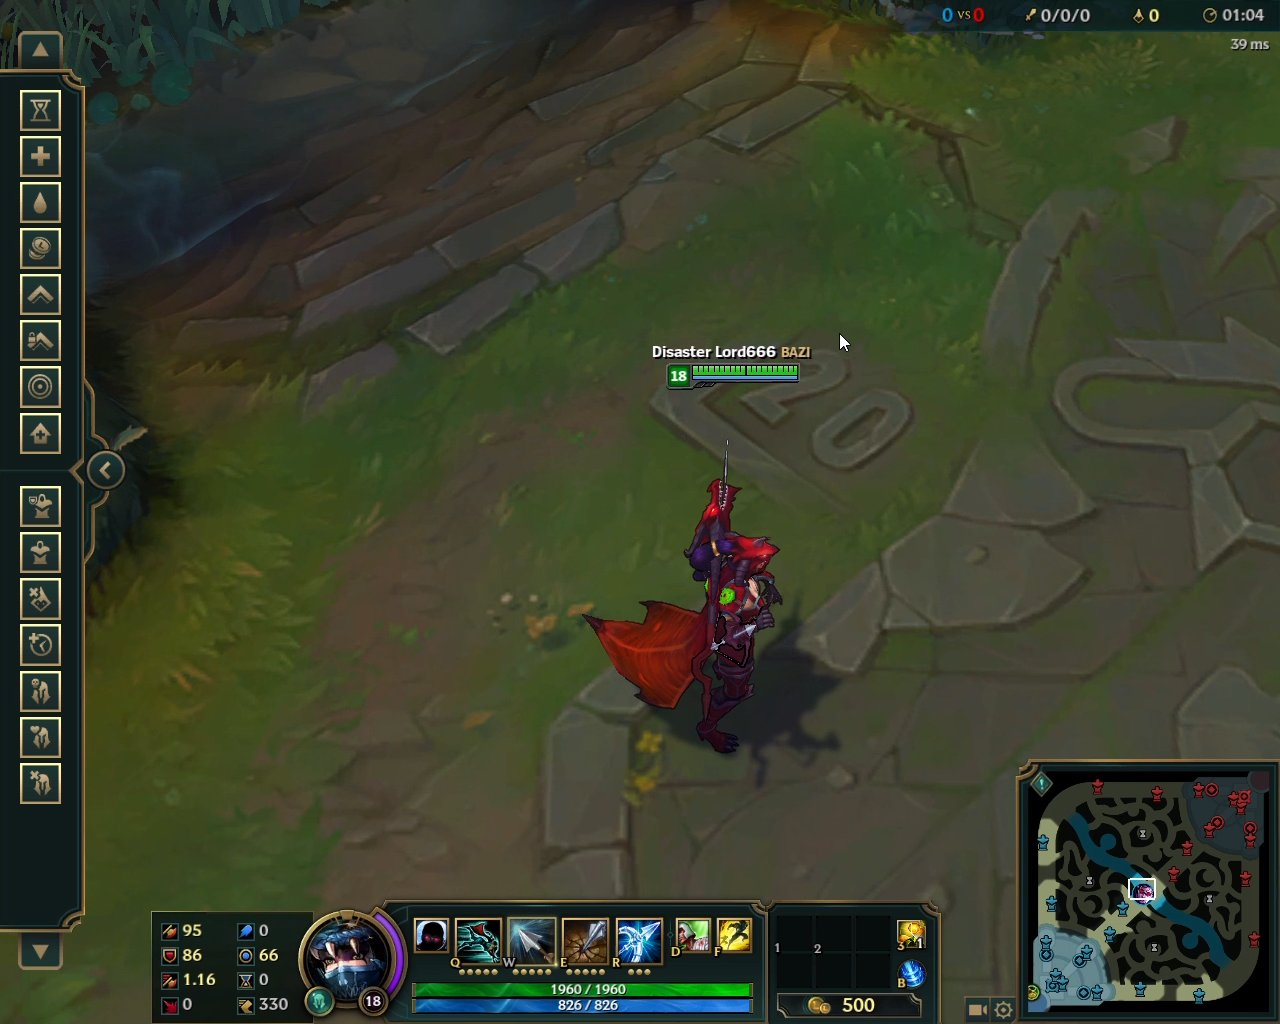Vayne: (572, 424, 796, 766)
